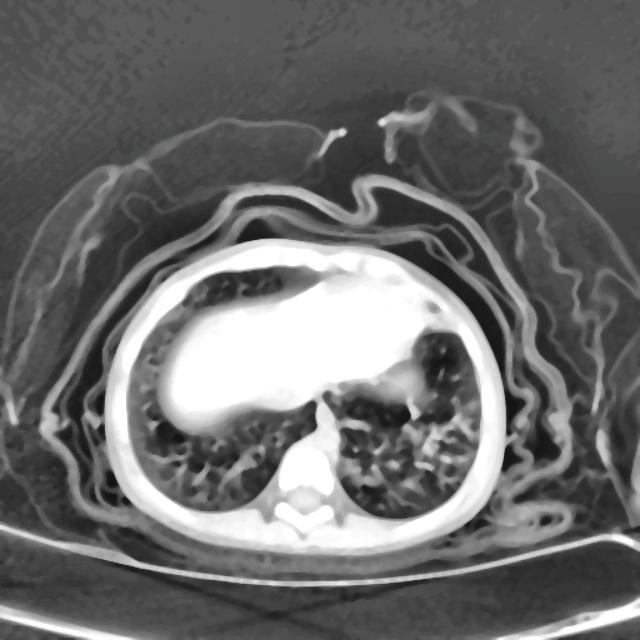covid: (102, 235, 507, 557)
